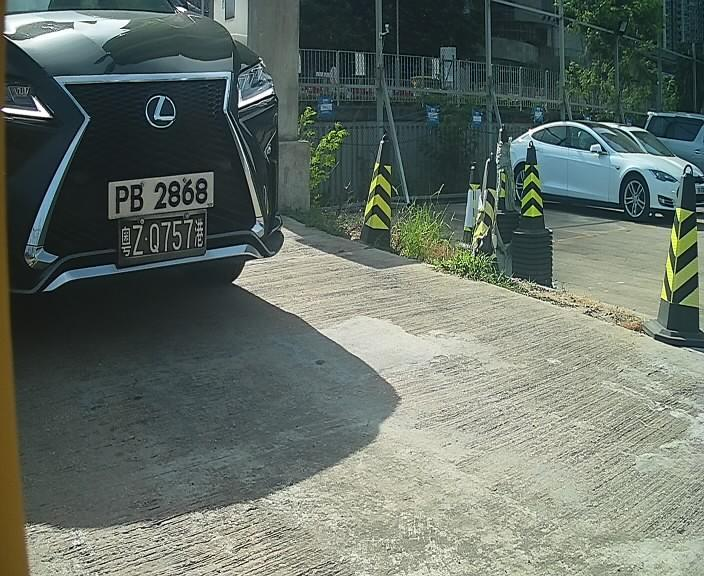privatecar: (1, 3, 343, 345)
